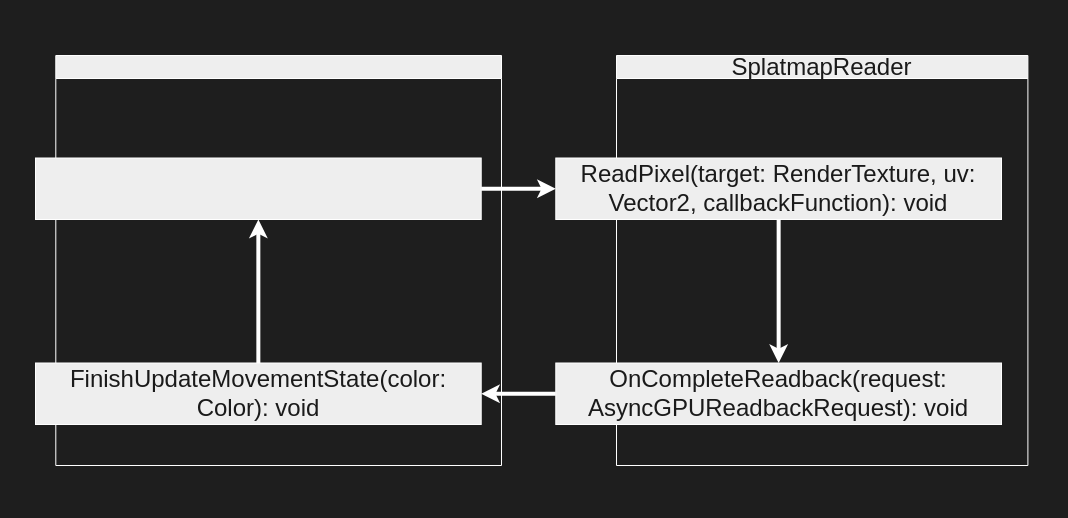
Image size: 1068x518. Some labels were removed from this diagram. Here are the shapes that lost their labels. From the top down, the box of each, then its label:
(34, 157, 481, 220): UpdateMovementState(): void
(55, 54, 502, 466): PlayerController
